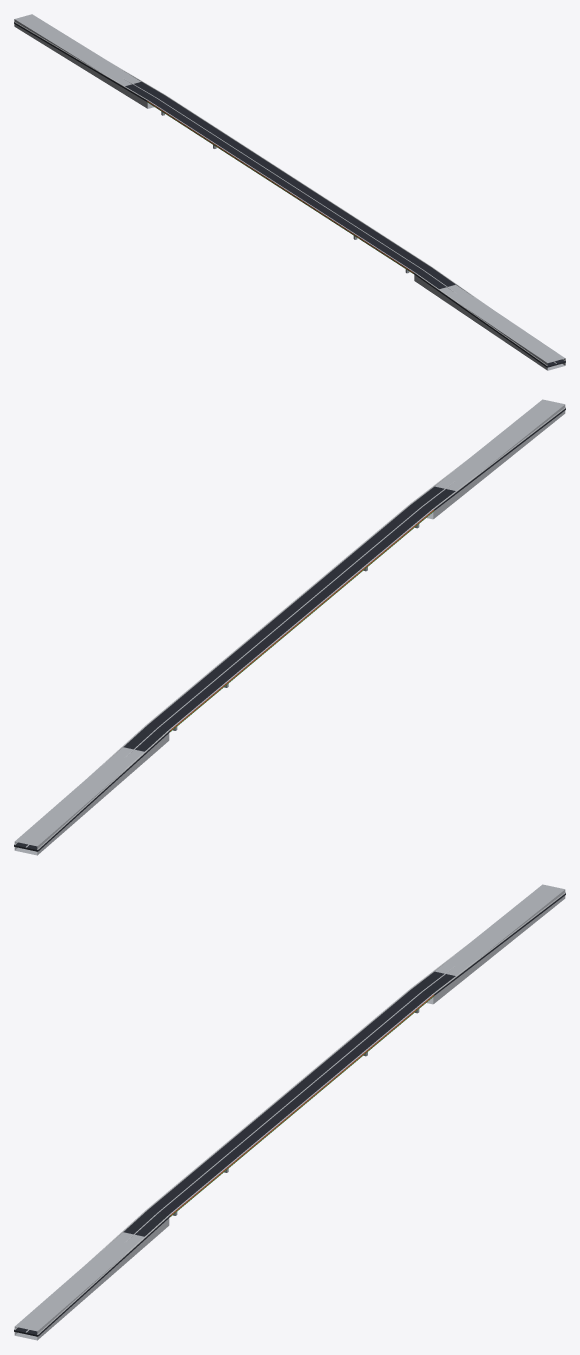
File: flyover-ska-lod1.glb
3 views of the same model, one above another, from view 1: azimuth 30°, elevation 25°; view 2: azimuth 150°, elevation 25°; view 3: azimuth 330°, elevation 25° (orthographic). The views are drawn at different scales.
Visible parts, largest first — view 1: flyover-ska_LOD1; view 2: flyover-ska_LOD1; view 3: flyover-ska_LOD1.
Boxes of the visible parts, x1,y1,x2,y2 form: flyover-ska_LOD1: (14, 14, 565, 370); flyover-ska_LOD1: (14, 399, 565, 855); flyover-ska_LOD1: (14, 884, 565, 1340).
Size of the model in its own units: 56.91 by 10.29 by 720.
